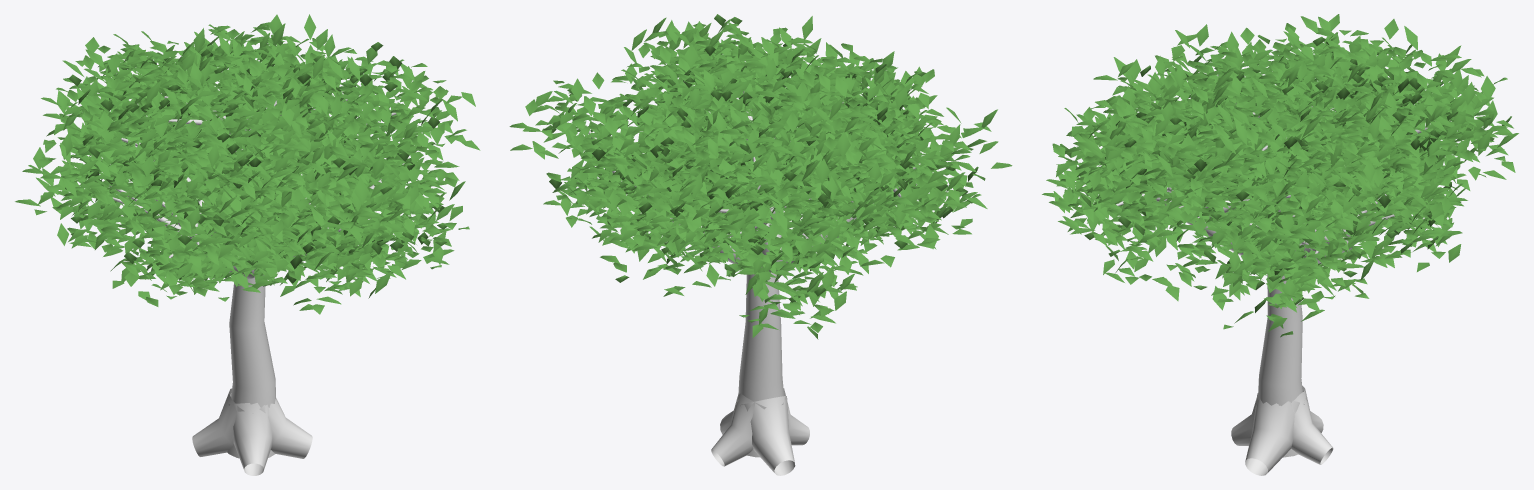
The model's file is 01_Mese_Agaci.fbx.
The picture shows the model from 3 angles, left to right: view 1: azimuth 30°, elevation 25°; view 2: azimuth 150°, elevation 25°; view 3: azimuth 270°, elevation 25°; orthographic projection.
Visible parts, largest first — view 1: 01_Mese_Agaci; view 2: 01_Mese_Agaci; view 3: 01_Mese_Agaci.
Part boxes in pixels (left/top/right/bottom): 01_Mese_Agaci: left=15, top=14, right=480, bottom=475; 01_Mese_Agaci: left=509, top=14, right=1012, bottom=475; 01_Mese_Agaci: left=1042, top=14, right=1518, bottom=475.
Bounding box in the file's own units: 784 × 711 × 750.
